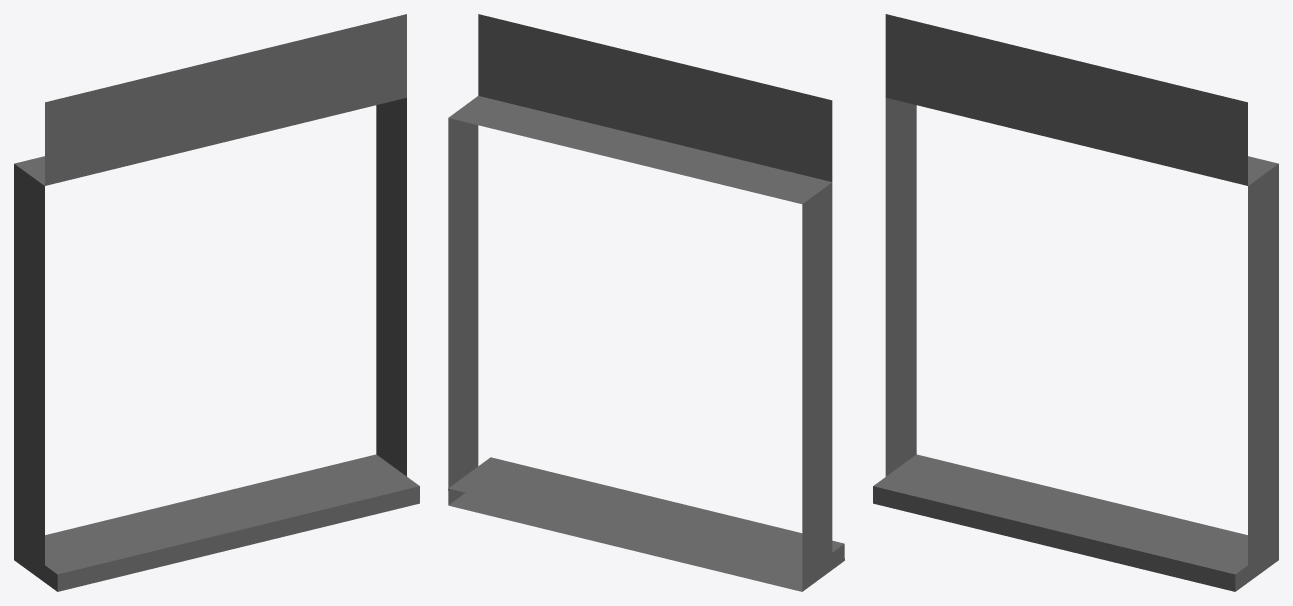
Rendered from Itr_Wall_Color_02(for_window).FBX.
The picture shows the model from 3 angles, left to right: view 1: azimuth 30°, elevation 25°; view 2: azimuth 150°, elevation 25°; view 3: azimuth 330°, elevation 25°; orthographic projection. The views are drawn at different scales.
Parts seen in each view (by area): view 1: Itr_Wall_Color_02(for_window); view 2: Itr_Wall_Color_02(for_window); view 3: Itr_Wall_Color_02(for_window).
Part boxes in pixels (x1,y1,x2,y2): Itr_Wall_Color_02(for_window): [14, 14, 419, 591]; Itr_Wall_Color_02(for_window): [448, 14, 844, 591]; Itr_Wall_Color_02(for_window): [873, 14, 1278, 591].
Bounding box in the file's own units: 65.28 × 82.71 × 13.59.
